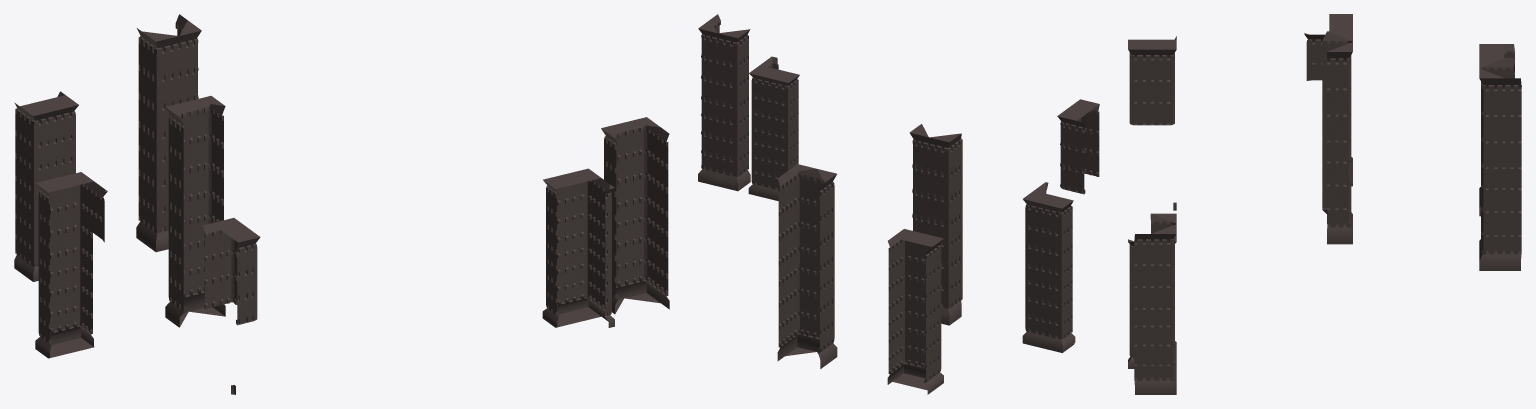
Rendered from Building2s.fbx.
3 views of the same model, side by side, from view 1: azimuth 30°, elevation 25°; view 2: azimuth 150°, elevation 25°; view 3: azimuth 270°, elevation 25° (orthographic). The views are drawn at different scales.
Visible parts, largest first — view 1: polySurface9; view 2: polySurface9; view 3: polySurface9.
Part boxes in pixels (bbox=[...]): polySurface9: bbox=[14, 14, 669, 394]; polySurface9: bbox=[698, 14, 1099, 394]; polySurface9: bbox=[1128, 14, 1521, 394].
Size of the model in its own units: 260 by 188 by 102.
3 materials, 3 textured.
